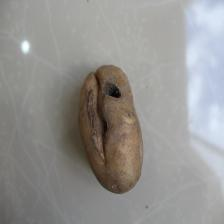Damaged potato: (77, 62, 145, 195)
